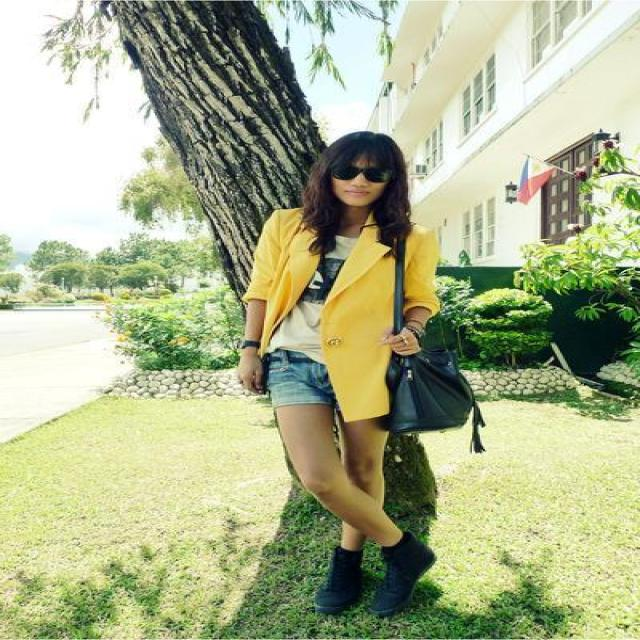bag: (372, 260, 511, 452)
jacket: (242, 192, 454, 421)
shirt: (266, 243, 346, 363)
shoe: (320, 532, 437, 621)
shorts: (238, 346, 338, 409)
sunglass: (326, 150, 368, 180)
